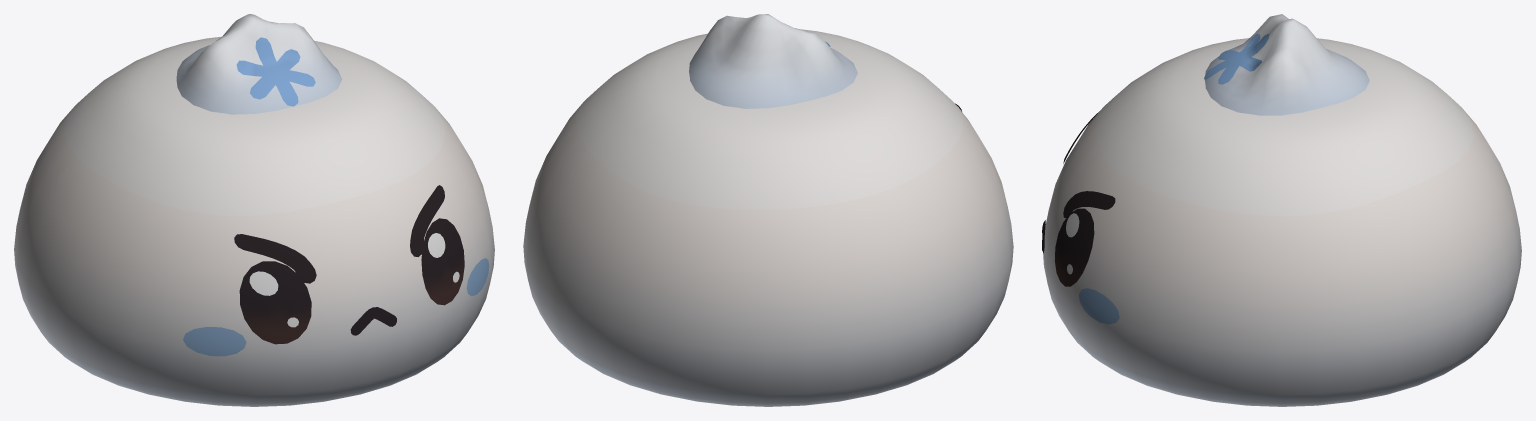
Rendered from mochi-slime_snow.glb.
The picture shows the model from 3 angles, left to right: view 1: azimuth 30°, elevation 25°; view 2: azimuth 150°, elevation 25°; view 3: azimuth 270°, elevation 25°; orthographic projection. The views are drawn at different scales.
Parts seen in each view (by area): view 1: body; view 2: body; view 3: body.
Boxes of the visible parts, <box> form: body: <box>14,14,494,406</box>; body: <box>523,14,1013,406</box>; body: <box>1042,14,1521,406</box>.
Bounding box in the file's own units: 0.8499 × 0.5987 × 0.8513.
